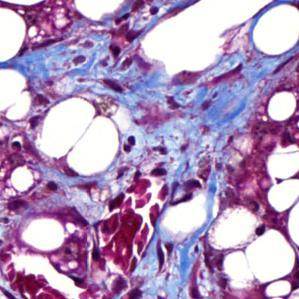steatosis: (251, 1, 297, 60), (265, 88, 298, 122)
